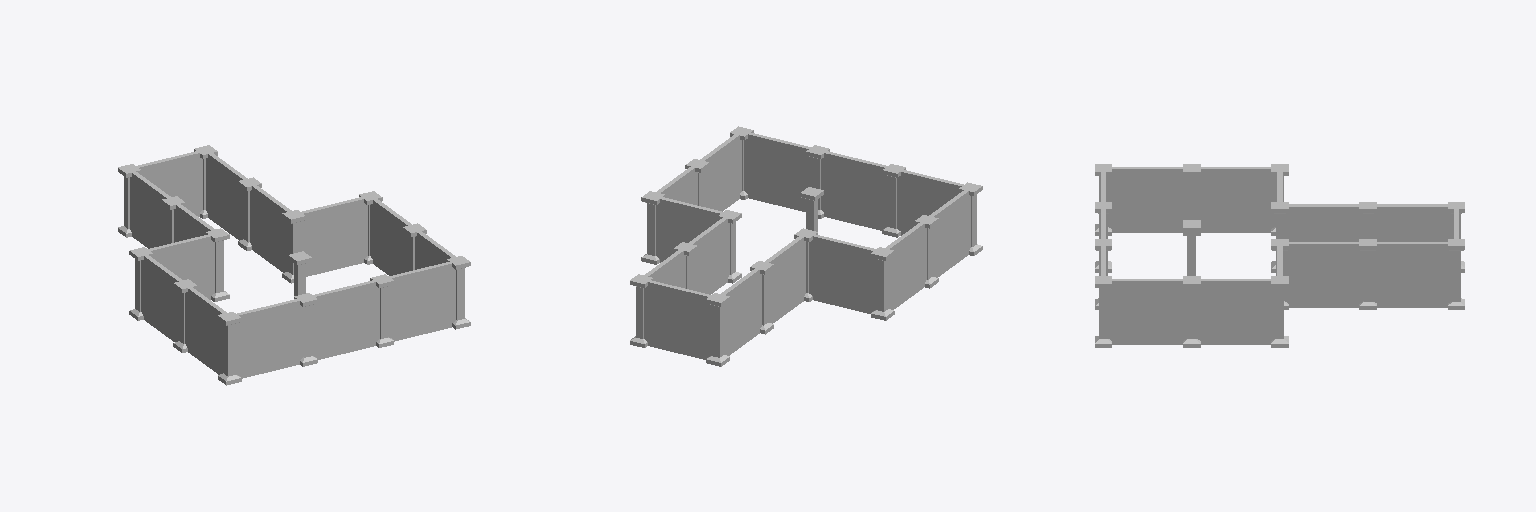
Rendered from Salle1.obj.
3 renders of one model, left to right at view 1: azimuth 30°, elevation 25°; view 2: azimuth 150°, elevation 25°; view 3: azimuth 270°, elevation 25°, orthographic.
Parts seen in each view (by area): view 1: Wall.009_Cube.020, Wall.002_Cube.006, Wall.001_Cube.005, Wall.010_Cube.021, Wall.013_Cube.027, Wall.005_Cube.012, Wall_Cube.003, Wall.008_Cube.019, Wall.003_Cube.008, Wall.011_Cube.022, Wall.007_Cube.018, Wall.006_Cube.013 (+13 smaller); view 2: Wall.003_Cube.008, Wall.007_Cube.018, Wall.002_Cube.006, Wall.009_Cube.020, Wall.013_Cube.027, Wall.006_Cube.013, Wall_Cube.003, Wall.004_Cube.010, Wall.010_Cube.021, Wall.001_Cube.005, Wall.005_Cube.012, Wall.012_Cube.026 (+13 smaller); view 3: Wall.011_Cube.022, Wall.008_Cube.019, Wall.012_Cube.026, Wall.005_Cube.012, Wall_Cube.003, Wall.013_Cube.027, Wall.004_Cube.010, Wall.006_Cube.013, Pillar.011_Cube.025, Pillar.010_Cube.024, Pillar.013_Cube.029, Pillar.006_Cube.015 (+3 smaller).
Part boxes in pixels (left/top/right/bottom): Wall.009_Cube.020: left=382, top=260, right=459, bottom=341; Wall.002_Cube.006: left=305, top=278, right=382, bottom=359; Wall.001_Cube.005: left=230, top=297, right=305, bottom=378; Wall.010_Cube.021: left=295, top=195, right=369, bottom=276; Wall.013_Cube.027: left=184, top=284, right=229, bottom=374; Wall.005_Cube.012: left=249, top=182, right=294, bottom=272; Wall_Cube.003: left=139, top=251, right=186, bottom=341; Wall.008_Cube.019: left=206, top=153, right=251, bottom=240; Wall.003_Cube.008: left=141, top=232, right=217, bottom=299; Wall.011_Cube.022: left=369, top=196, right=416, bottom=275; Wall.007_Cube.018: left=137, top=150, right=205, bottom=216; Wall.006_Cube.013: left=128, top=168, right=175, bottom=248; Wall.003_Cube.008: left=806, top=232, right=881, bottom=313; Wall.007_Cube.018: left=642, top=280, right=711, bottom=359; Wall.002_Cube.006: left=818, top=149, right=887, bottom=230; Wall.009_Cube.020: left=740, top=131, right=818, bottom=211; Wall.013_Cube.027: left=928, top=187, right=971, bottom=277; Wall.006_Cube.013: left=716, top=265, right=762, bottom=355; Wall_Cube.003: left=881, top=221, right=926, bottom=309; Wall.004_Cube.010: left=761, top=236, right=805, bottom=323; Wall.010_Cube.021: left=653, top=196, right=729, bottom=262; Wall.001_Cube.005: left=897, top=170, right=963, bottom=235; Wall.005_Cube.012: left=684, top=214, right=731, bottom=294; Wall.012_Cube.026: left=696, top=131, right=741, bottom=211; Wall.011_Cube.022: left=1196, top=279, right=1275, bottom=344; Wall.008_Cube.019: left=1368, top=242, right=1455, bottom=307; Wall.012_Cube.026: left=1108, top=279, right=1186, bottom=344; Wall.005_Cube.012: left=1283, top=242, right=1367, bottom=307; Wall_Cube.003: left=1192, top=167, right=1279, bottom=232; Wall.013_Cube.027: left=1108, top=167, right=1191, bottom=232; Wall.004_Cube.010: left=1280, top=204, right=1367, bottom=241; Wall.006_Cube.013: left=1368, top=204, right=1455, bottom=241; Pillar.011_Cube.025: left=1183, top=276, right=1200, bottom=347; Pillar.010_Cube.024: left=1095, top=276, right=1111, bottom=347; Pillar.013_Cube.029: left=1271, top=276, right=1288, bottom=347; Pillar.006_Cube.015: left=1359, top=239, right=1376, bottom=309.
Size of the model in its own units: 32 by 8 by 42.